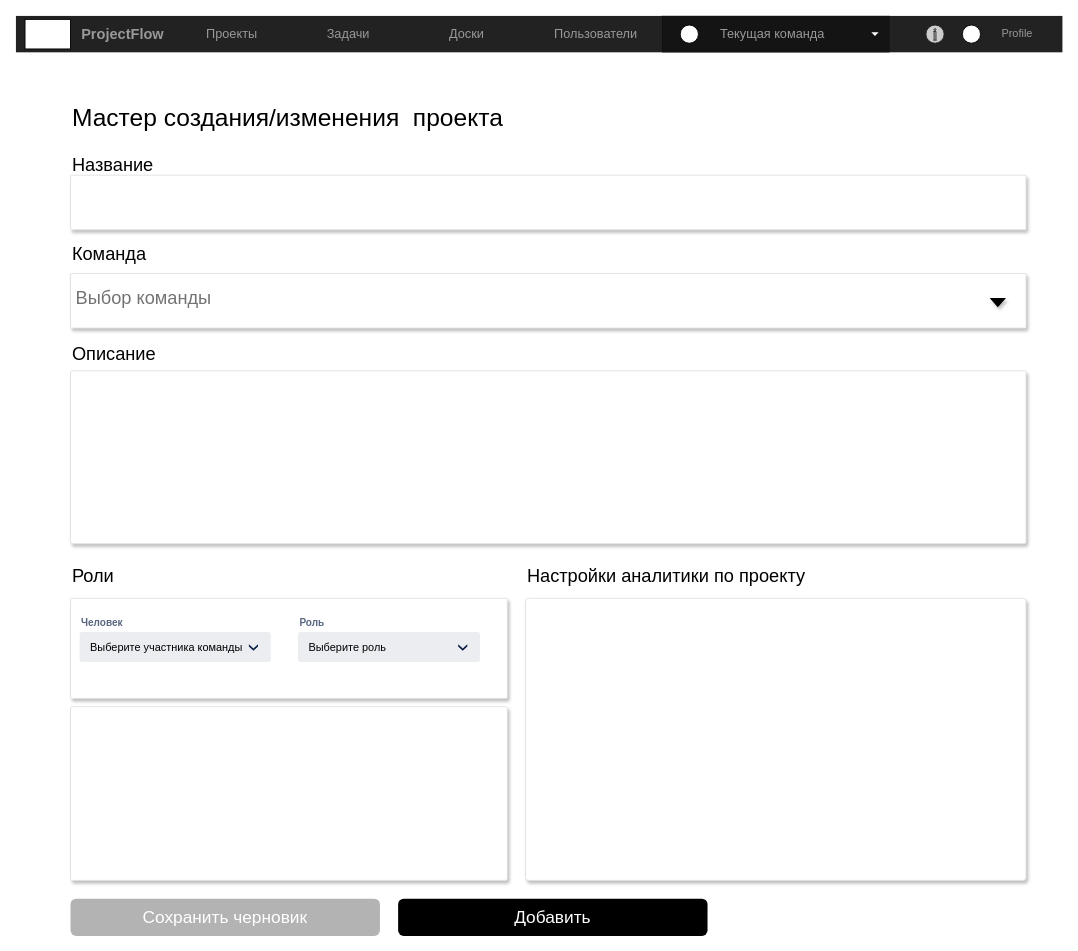
Image size: 1078x951. Some labels were removed from this diagram. Here are the shapes that lost their labels. From the top down, the centre of each, then its label:
the point at 47,33: Logo
the point at 289,794: Назначенные роли
